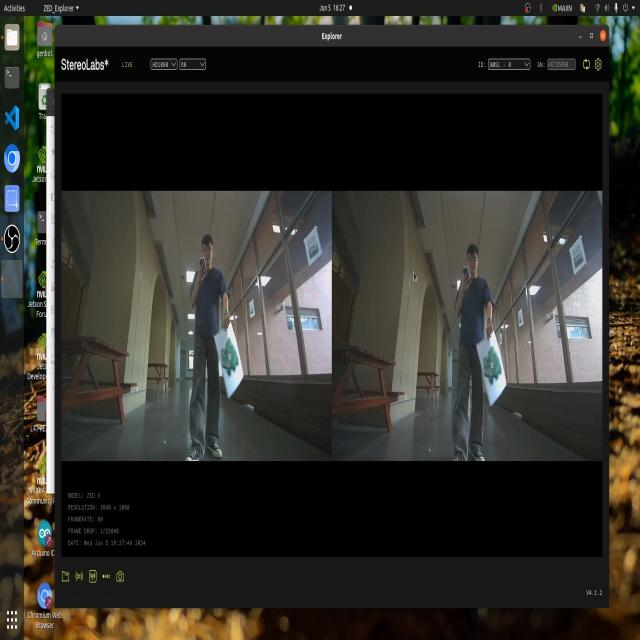green: (215, 334, 252, 384), (480, 346, 504, 398)
